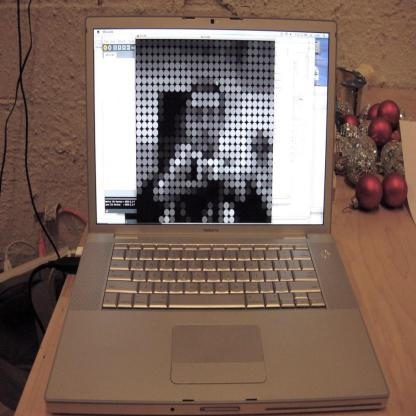board: (44, 17, 388, 410)
